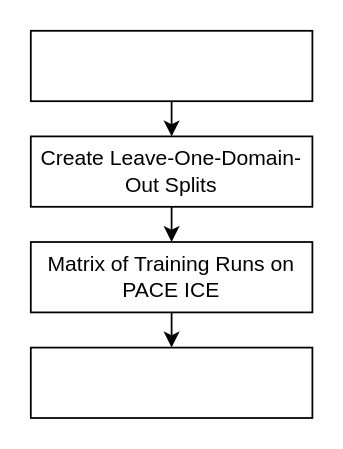
Image size: 343x449. Some labels were removed from this diagram. The box of each missing label's shape, as (x1, y1, x2, y2) in pixels:
Fine Tune Baseline Model: (29, 29, 312, 101)
Investigate Predictors of Accuracy Drop: (29, 346, 312, 418)
